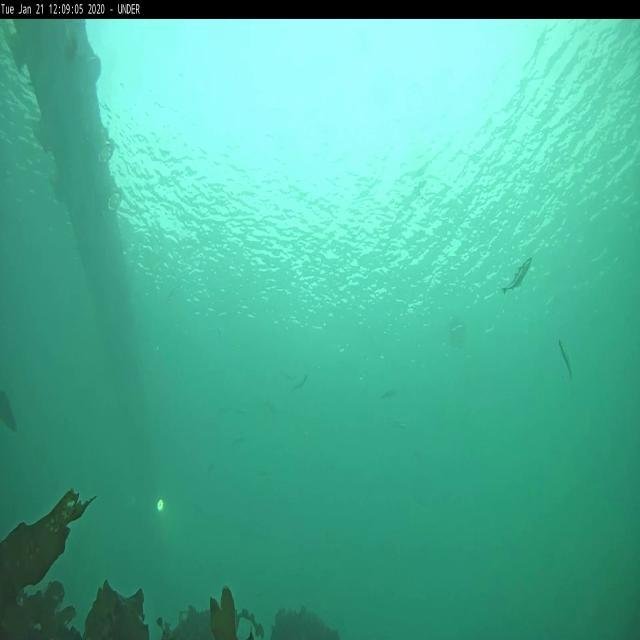fish: (502, 258, 532, 300), (2, 386, 18, 436), (558, 341, 574, 378), (382, 388, 398, 402), (295, 376, 308, 393), (280, 368, 294, 382), (394, 420, 408, 430)
